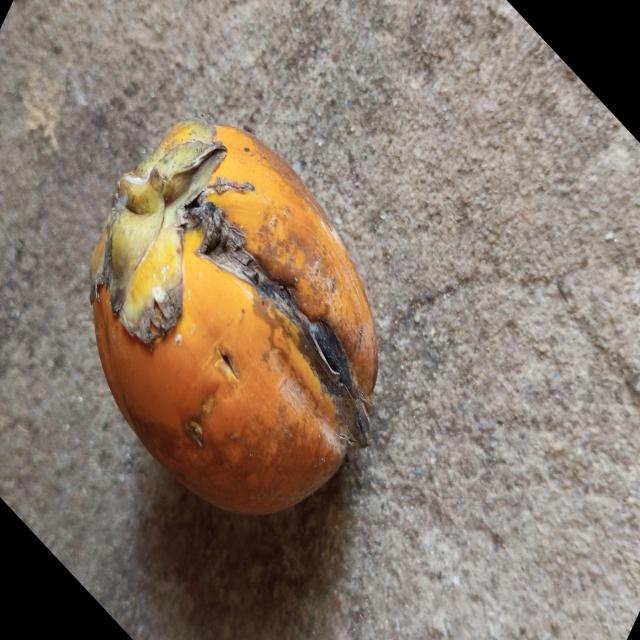damaged: (88, 123, 382, 520)
